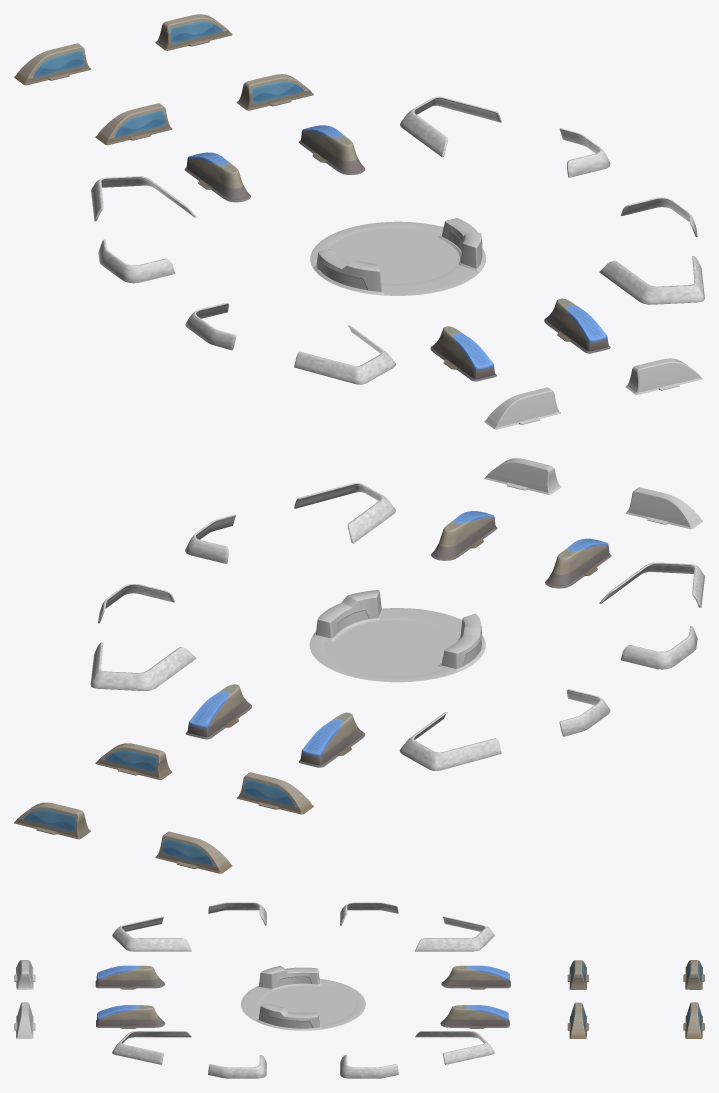
The model's file is pref_Area_Boss_beta_01_lv3.fbx.
The picture shows the model from 3 angles, top to bottom: view 1: azimuth 30°, elevation 25°; view 2: azimuth 150°, elevation 25°; view 3: azimuth 270°, elevation 25°; orthographic projection. The views are drawn at different scales.
Parts seen in each view (by area): view 1: pref_sm_beach_boss_middle_02_lv3, pref_sm_beach_techobstacle03_glass_lv3, pref_sm_beach_techobstacle03_glass_lv3 (1), pref_sm_beach_techobstacle06_lv3 (3), pref_sm_beach_techobstacle06_lv3 (2), pref_sm_beach_techobstacle06_lv3, pref_sm_beach_techobstacle06_lv3 (1), pref_sm_beach_techobstacle07b_lv3 (15), pref_sm_beach_techobstacle07b_lv3 (11), pref_sm_beach_techobstacle07b_mirror_lv3 (1), pref_sm_beach_techobstacle07b_mirror_lv3, pref_sm_beach_techobstacle07b_lv3 (10) (+1 smaller); view 2: pref_sm_beach_boss_middle_02_lv3, pref_sm_beach_techobstacle03_glass_lv3, pref_sm_beach_techobstacle03_glass_lv3 (1), pref_sm_beach_techobstacle06_lv3 (1), pref_sm_beach_techobstacle06_lv3, pref_sm_beach_techobstacle06_lv3 (2), pref_sm_beach_techobstacle06_lv3 (3), pref_sm_beach_techobstacle07b_mirror_lv3 (1), pref_sm_beach_techobstacle07b_lv3 (11), pref_sm_beach_techobstacle07b_lv3 (15), pref_sm_beach_techobstacle07b_lv3 (14), pref_sm_beach_techobstacle07b_mirror_lv3 (+1 smaller); view 3: pref_sm_beach_boss_middle_02_lv3, pref_sm_beach_techobstacle03_glass_lv3 (1), pref_sm_beach_techobstacle03_glass_lv3, pref_sm_beach_techobstacle06_lv3 (3), pref_sm_beach_techobstacle06_lv3 (1), pref_sm_beach_techobstacle06_lv3, pref_sm_beach_techobstacle06_lv3 (2), pref_sm_beach_techobstacle07b_lv3 (14), pref_sm_beach_techobstacle07b_mirror_lv3, pref_sm_beach_techobstacle07b_lv3 (10), pref_sm_beach_techobstacle07b_lv3 (15), pref_sm_beach_techobstacle07b_mirror_lv3 (1) (+1 smaller).
Part boxes in pixels (<box>): pref_sm_beach_boss_middle_02_lv3: <box>310,218,486,295</box>; pref_sm_beach_techobstacle03_glass_lv3: <box>400,96,704,304</box>; pref_sm_beach_techobstacle03_glass_lv3 (1): <box>91,176,395,384</box>; pref_sm_beach_techobstacle06_lv3 (3): <box>430,326,496,381</box>; pref_sm_beach_techobstacle06_lv3 (2): <box>544,298,610,353</box>; pref_sm_beach_techobstacle06_lv3: <box>299,125,365,174</box>; pref_sm_beach_techobstacle06_lv3 (1): <box>184,152,250,202</box>; pref_sm_beach_techobstacle07b_lv3 (15): <box>14,43,90,85</box>; pref_sm_beach_techobstacle07b_lv3 (11): <box>95,103,172,145</box>; pref_sm_beach_techobstacle07b_mirror_lv3 (1): <box>484,387,560,429</box>; pref_sm_beach_techobstacle07b_mirror_lv3: <box>625,358,702,394</box>; pref_sm_beach_techobstacle07b_lv3 (10): <box>236,74,313,110</box>; pref_sm_beach_boss_middle_02_lv3: <box>309,590,485,682</box>; pref_sm_beach_techobstacle03_glass_lv3: <box>90,483,395,690</box>; pref_sm_beach_techobstacle03_glass_lv3 (1): <box>399,562,704,770</box>; pref_sm_beach_techobstacle06_lv3 (1): <box>298,712,364,767</box>; pref_sm_beach_techobstacle06_lv3: <box>185,684,251,739</box>; pref_sm_beach_techobstacle06_lv3 (2): <box>431,511,497,560</box>; pref_sm_beach_techobstacle06_lv3 (3): <box>545,538,611,588</box>; pref_sm_beach_techobstacle07b_mirror_lv3 (1): <box>626,487,702,529</box>; pref_sm_beach_techobstacle07b_lv3 (11): <box>237,772,313,814</box>; pref_sm_beach_techobstacle07b_lv3 (15): <box>155,831,232,873</box>; pref_sm_beach_techobstacle07b_lv3 (14): <box>14,802,90,839</box>; pref_sm_beach_techobstacle07b_mirror_lv3: <box>484,458,561,494</box>; pref_sm_beach_boss_middle_02_lv3: <box>240,966,365,1030</box>; pref_sm_beach_techobstacle03_glass_lv3 (1): <box>112,902,494,951</box>; pref_sm_beach_techobstacle03_glass_lv3: <box>112,1031,494,1078</box>; pref_sm_beach_techobstacle06_lv3 (3): <box>95,965,164,989</box>; pref_sm_beach_techobstacle06_lv3 (1): <box>441,965,510,989</box>; pref_sm_beach_techobstacle06_lv3: <box>440,1005,509,1028</box>; pref_sm_beach_techobstacle06_lv3 (2): <box>96,1005,165,1028</box>; pref_sm_beach_techobstacle07b_lv3 (14): <box>683,1002,704,1038</box>; pref_sm_beach_techobstacle07b_mirror_lv3: <box>14,1002,35,1038</box>; pref_sm_beach_techobstacle07b_lv3 (10): <box>567,1002,589,1038</box>; pref_sm_beach_techobstacle07b_lv3 (15): <box>683,960,704,989</box>; pref_sm_beach_techobstacle07b_mirror_lv3 (1): <box>14,960,35,989</box>.
Bounding box in the file's own units: 39.48 × 2.11 × 68.21.
